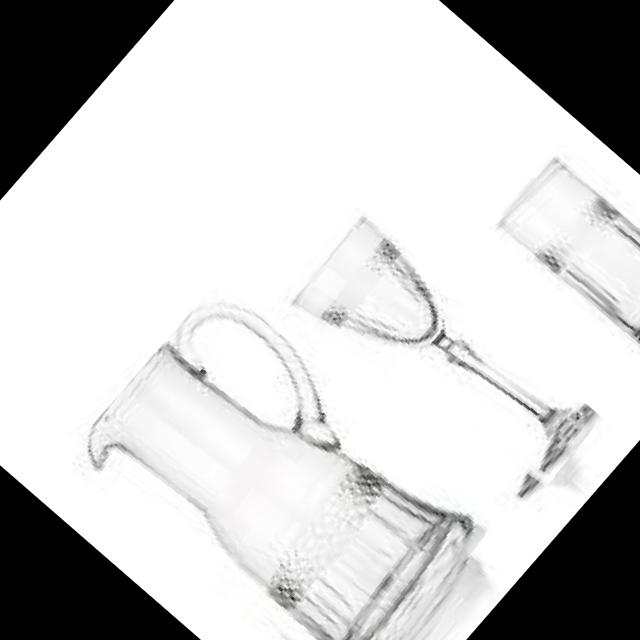Glass: (56, 279, 509, 640), (284, 210, 605, 512), (492, 153, 640, 363)
